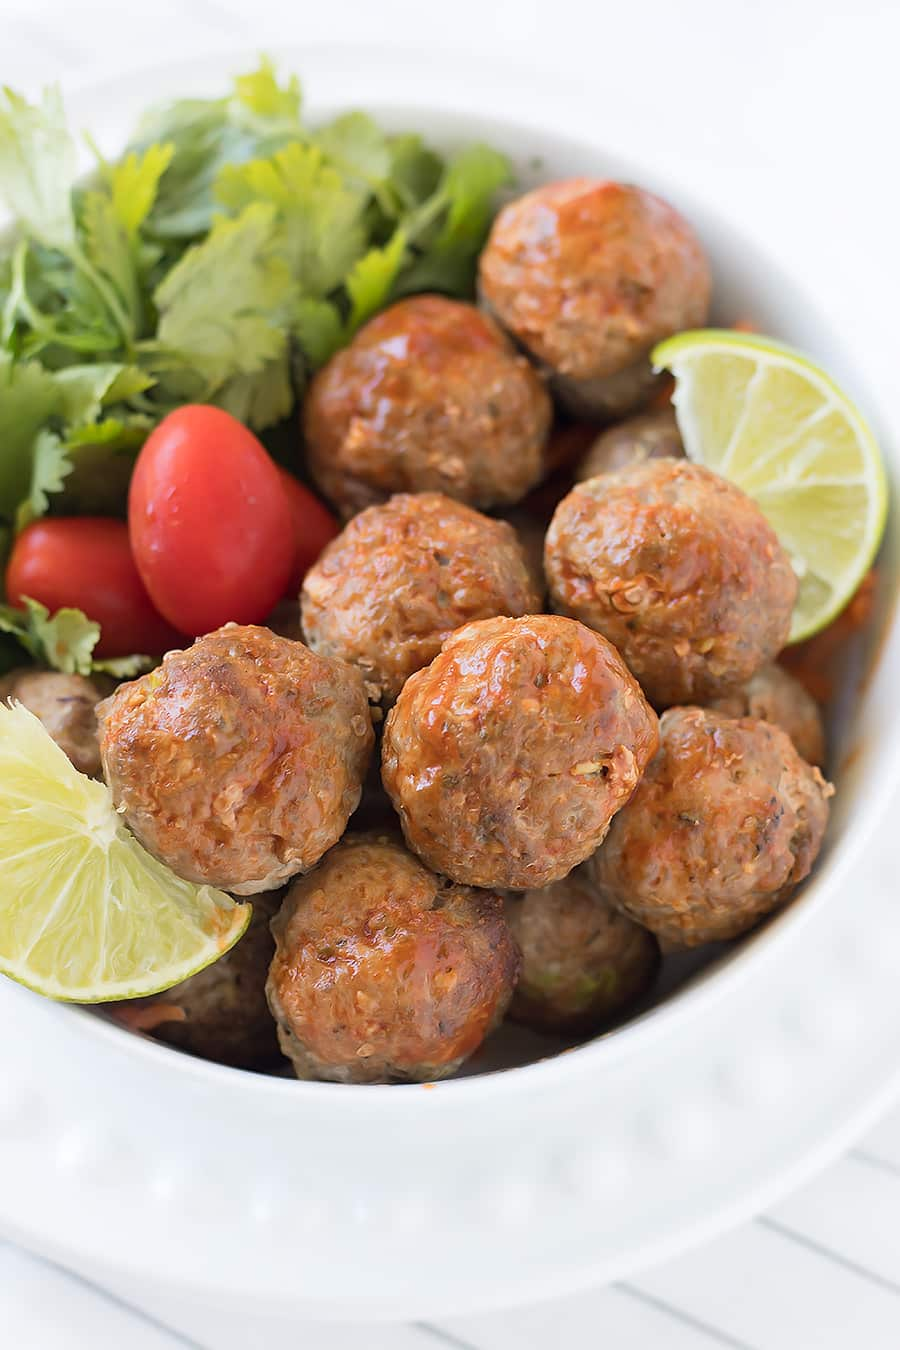meatballs: (144, 487, 798, 1038), (328, 193, 706, 487)
